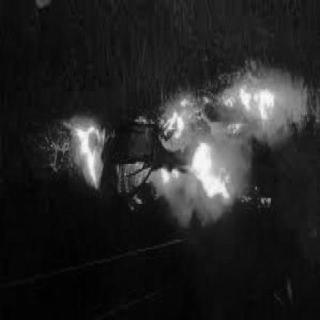Fire: (47, 70, 310, 229)
